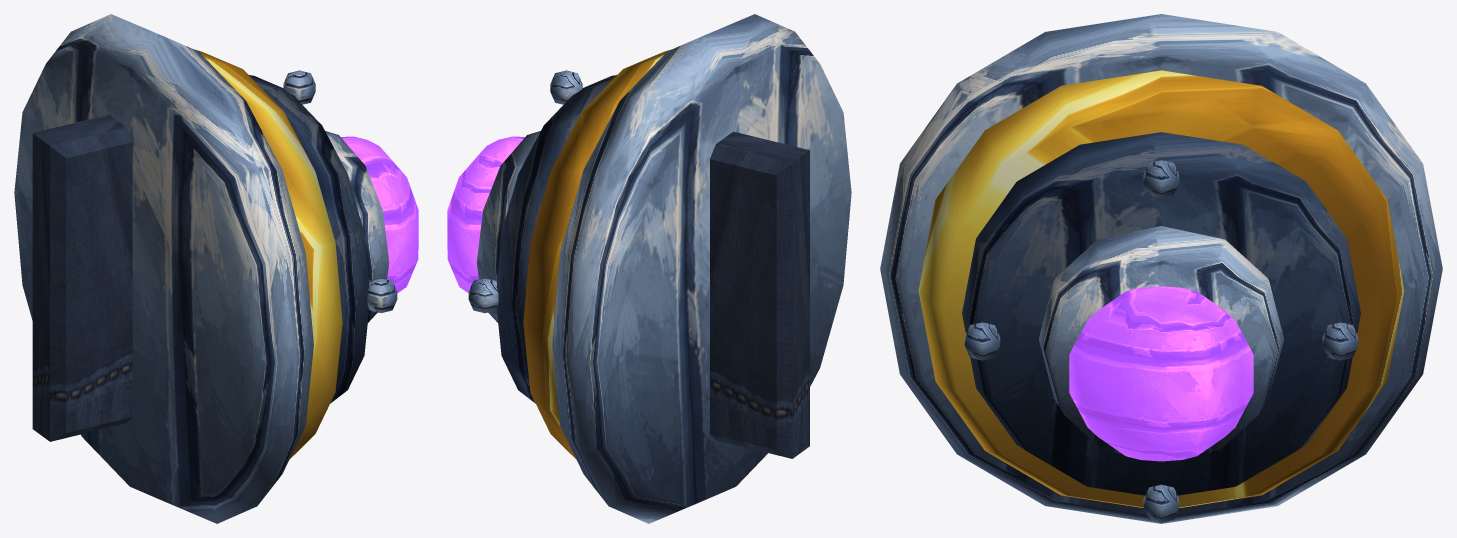
File: recon.glb
The picture shows the model from 3 angles, left to right: view 1: azimuth 30°, elevation 25°; view 2: azimuth 150°, elevation 25°; view 3: azimuth 270°, elevation 25°; orthographic projection. The views are drawn at different scales.
Parts seen in each view (by area): view 1: arm_L; view 2: arm_L; view 3: arm_L.
Boxes of the visible parts, left/top/right/bottom form: arm_L: left=14, top=14, right=418, bottom=523; arm_L: left=447, top=14, right=851, bottom=523; arm_L: left=880, top=14, right=1442, bottom=523.
Bounding box in the file's own units: 0.1734 × 0.22 × 0.22.
Materials: 5 (5 with a texture image).
